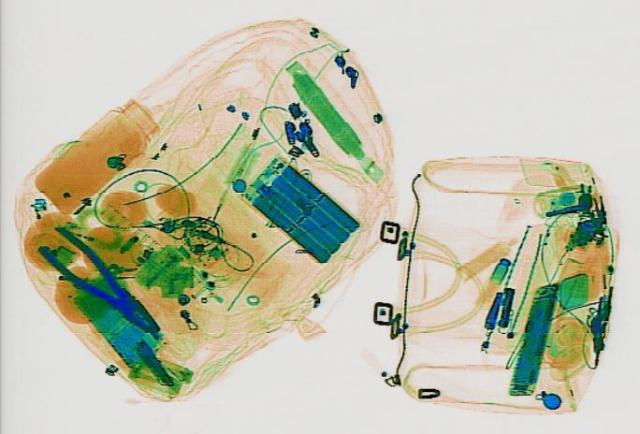Pliers: (21, 221, 177, 338)
